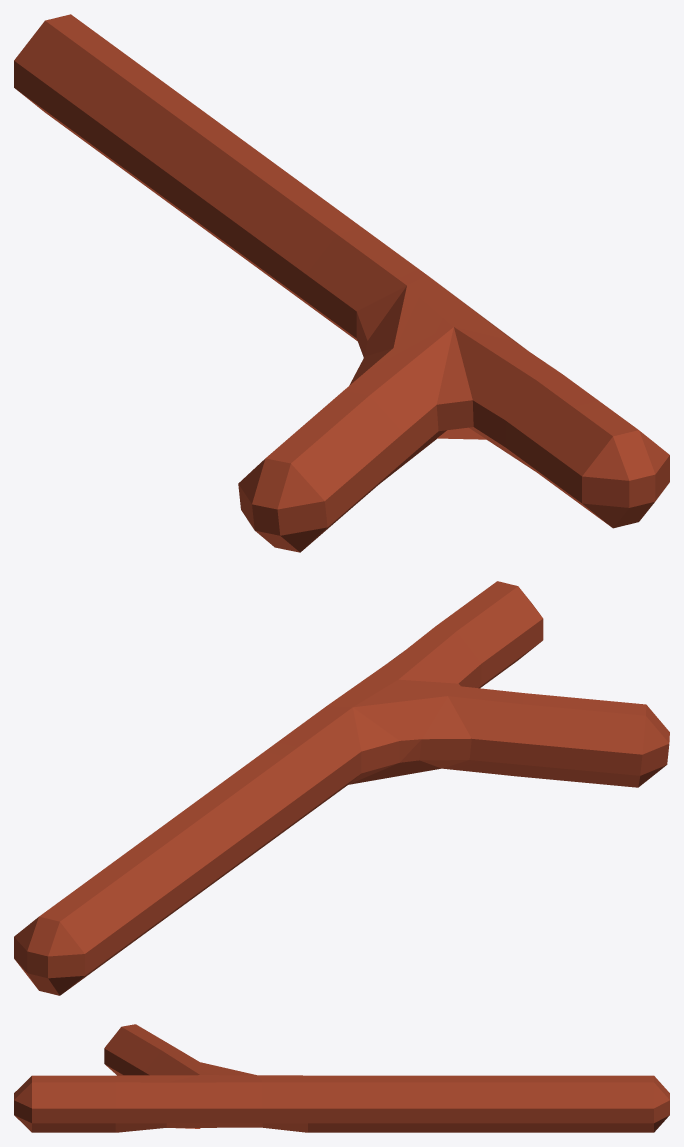
File: Stick1.fbx
3 views of the same model, one above another, from view 1: azimuth 30°, elevation 25°; view 2: azimuth 150°, elevation 25°; view 3: azimuth 270°, elevation 25° (orthographic). The views are drawn at different scales.
Visible parts, largest first — view 1: Vert; view 2: Vert; view 3: Vert.
Part boxes in pixels (x1=…): Vert: x1=14, y1=14, x2=669, y2=552; Vert: x1=14, y1=581, x2=669, y2=995; Vert: x1=14, y1=1024, x2=669, y2=1132.
Size of the model in its own units: 22.24 by 7.8 by 69.68.
